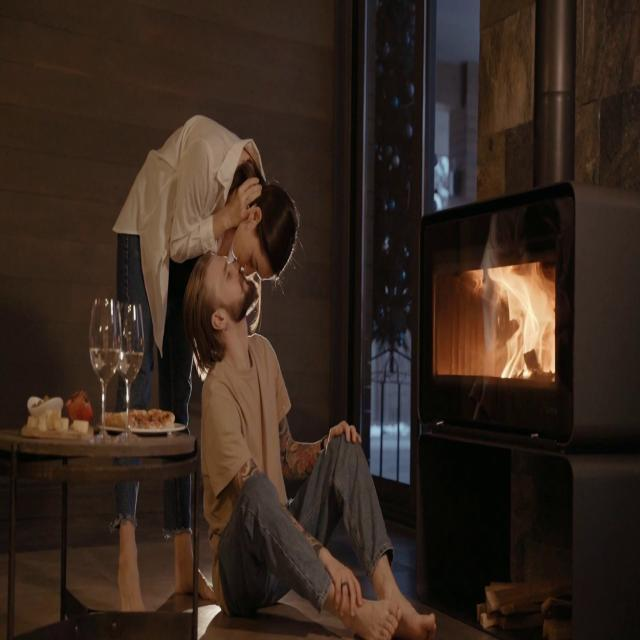Fire: (487, 264, 559, 379)
